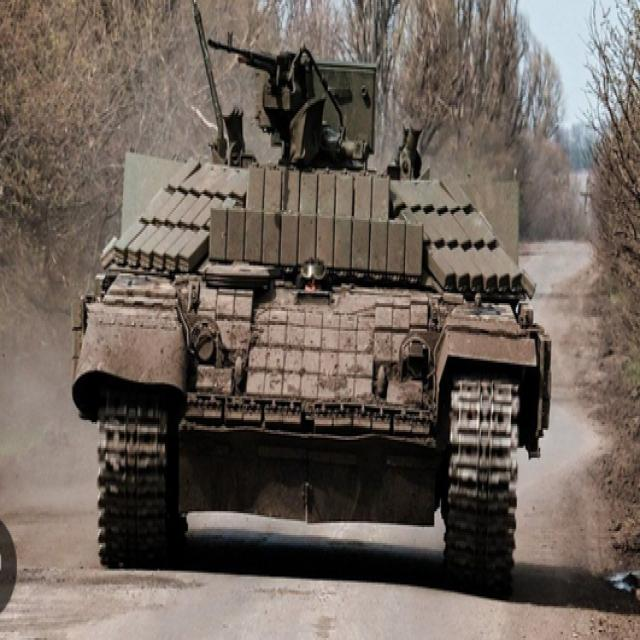MIL_APC: (77, 94, 544, 574)
